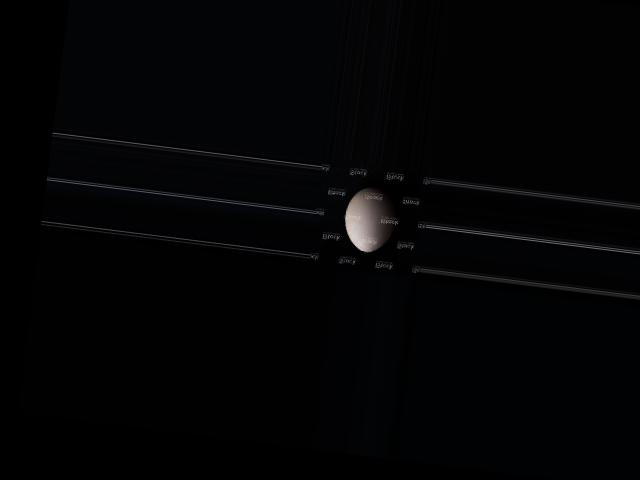egg: (341, 183, 399, 255)
